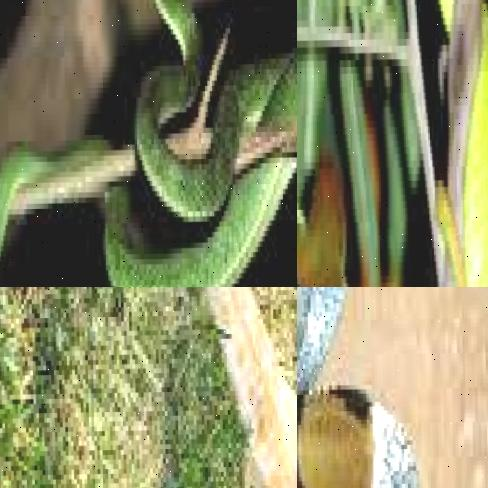snake: (0, 0, 297, 287), (301, 0, 488, 287), (297, 287, 488, 488), (171, 287, 297, 488)
